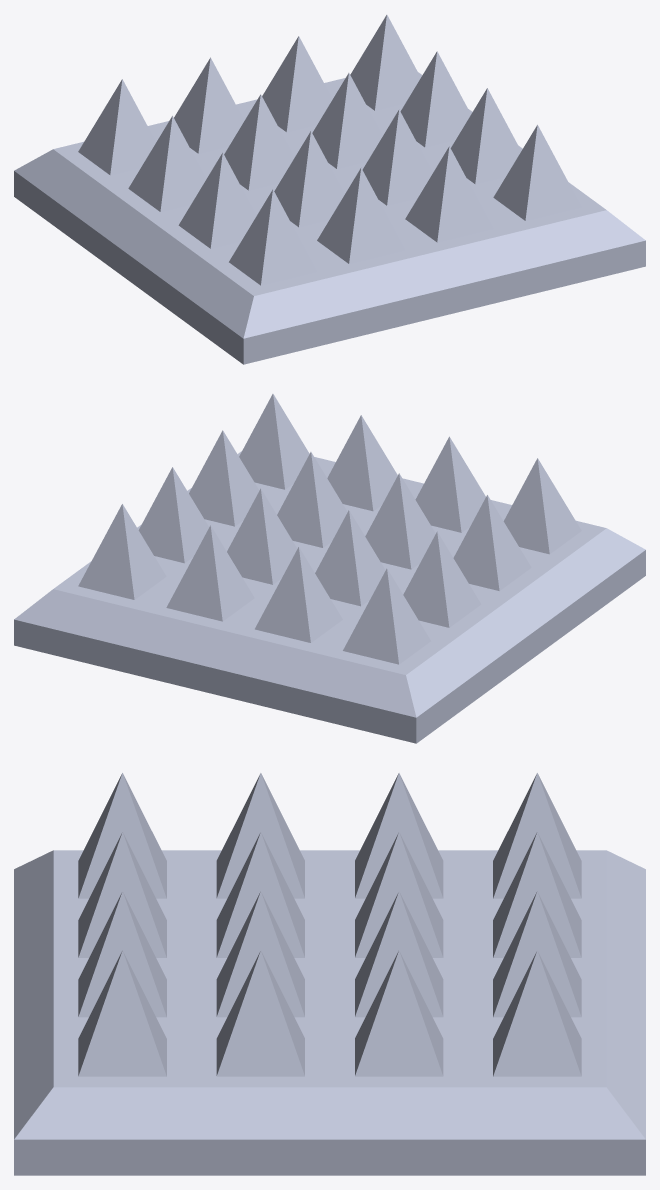
File: spikes.fbx
3 views of the same model, one above another, from view 1: azimuth 30°, elevation 25°; view 2: azimuth 150°, elevation 25°; view 3: azimuth 270°, elevation 25° (orthographic). The views are drawn at different scales.
Parts seen in each view (by area): view 1: spikes; view 2: spikes; view 3: spikes.
Part boxes in pixels (x1,y1,x2,y2): spikes: (14, 15, 645, 364); spikes: (14, 394, 645, 743); spikes: (14, 773, 645, 1175).
Bounding box in the file's own units: 8.1 × 2.5 × 8.
